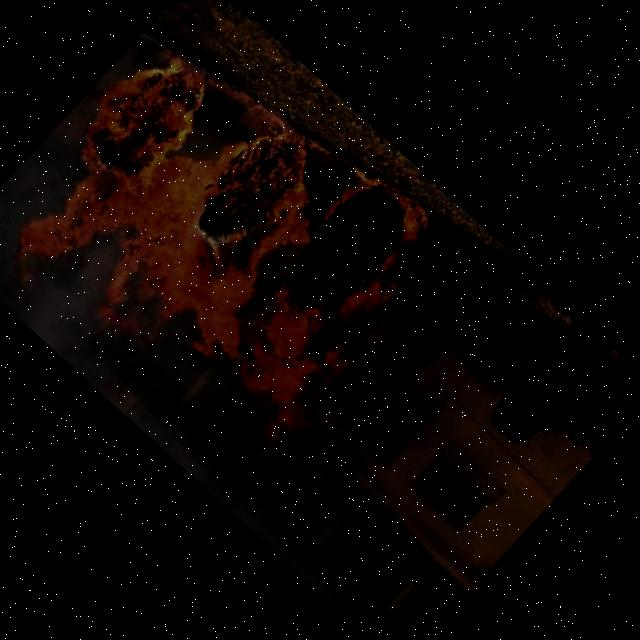Fire: (0, 2, 467, 470)
